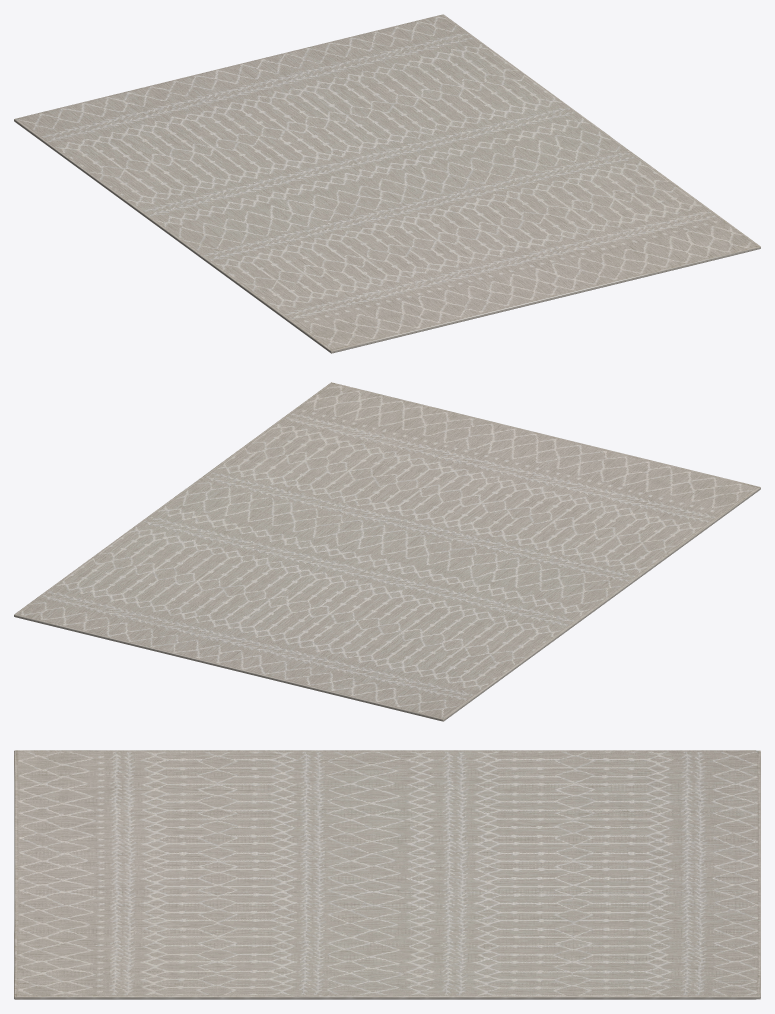
The model's file is rug2.glb.
The picture shows the model from 3 angles, top to bottom: view 1: azimuth 30°, elevation 25°; view 2: azimuth 150°, elevation 25°; view 3: azimuth 270°, elevation 25°; orthographic projection. The views are drawn at different scales.
Parts seen in each view (by area): view 1: Box002; view 2: Box002; view 3: Box002.
Part boxes in pixels (x1=…): Box002: x1=14, y1=14, x2=760, y2=353; Box002: x1=14, y1=382, x2=760, y2=721; Box002: x1=14, y1=750, x2=760, y2=999.
Size of the model in its own units: 0.9357 by 0.00543 by 1.2.
1 material, 1 textured.
